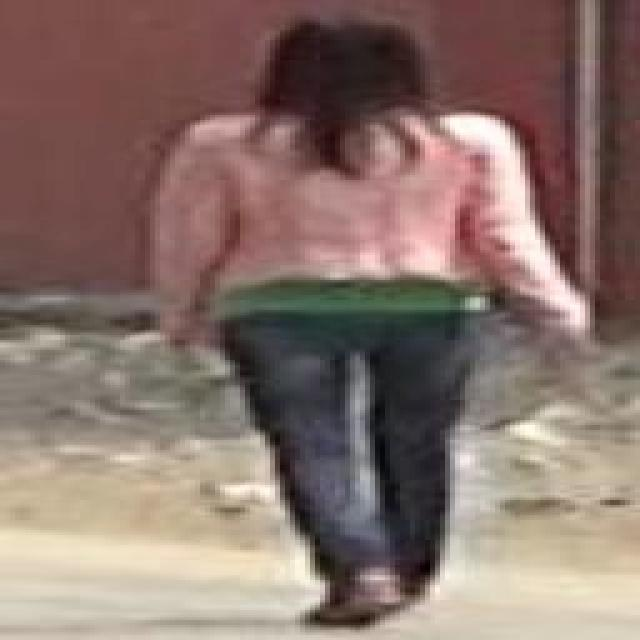adult: (124, 14, 618, 625)
